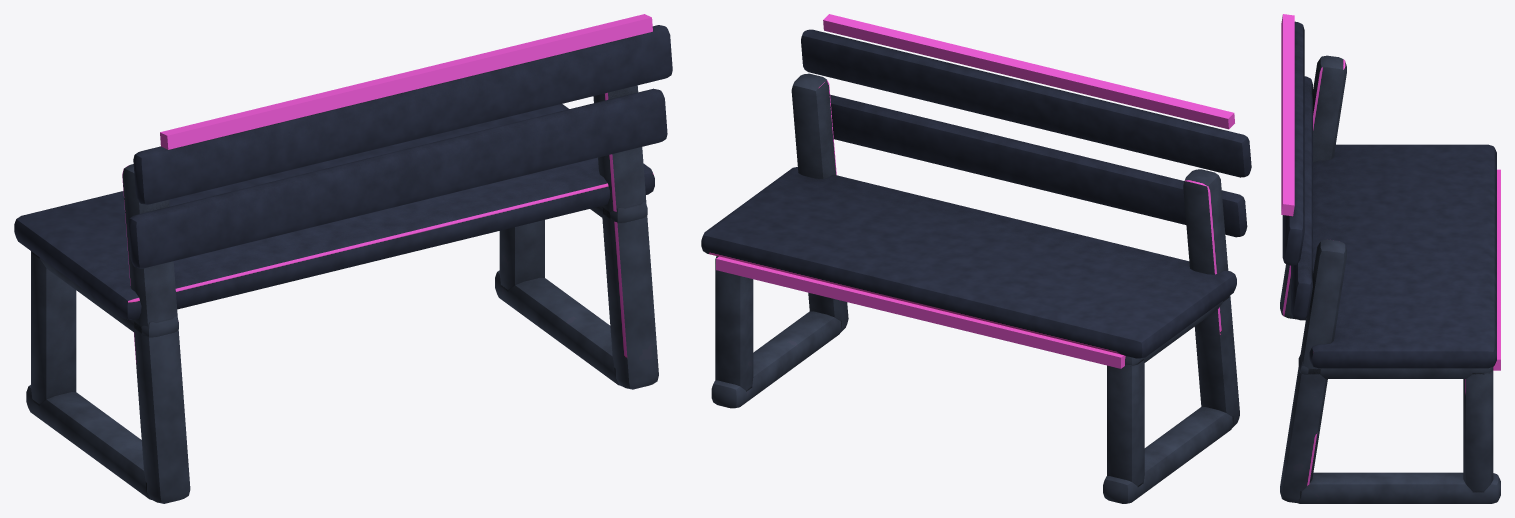
File: neon_bench.fbx
The picture shows the model from 3 angles, left to right: view 1: azimuth 30°, elevation 25°; view 2: azimuth 150°, elevation 25°; view 3: azimuth 270°, elevation 25°; orthographic projection. The views are drawn at different scales.
Visible parts, largest first — view 1: neon_bench, neon_bench_glow; view 2: neon_bench, neon_bench_glow; view 3: neon_bench, neon_bench_glow.
Part boxes in pixels (x1=…): neon_bench: x1=14, y1=25, x2=672, y2=503; neon_bench_glow: x1=160, y1=14, x2=652, y2=149; neon_bench: x1=701, y1=29, x2=1251, y2=503; neon_bench_glow: x1=716, y1=14, x2=1234, y2=368; neon_bench: x1=1280, y1=21, x2=1500, y2=503; neon_bench_glow: x1=1281, y1=14, x2=1500, y2=370.
Bounding box in the file's own units: 330 × 221 × 147.
Materials: 1 (1 with a texture image).
